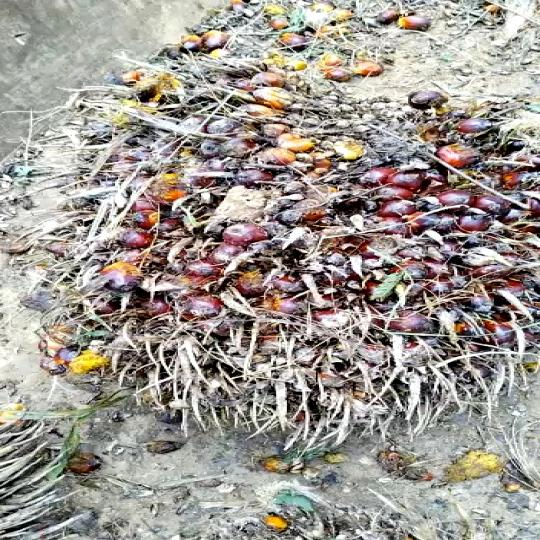masak: (35, 31, 540, 467)
